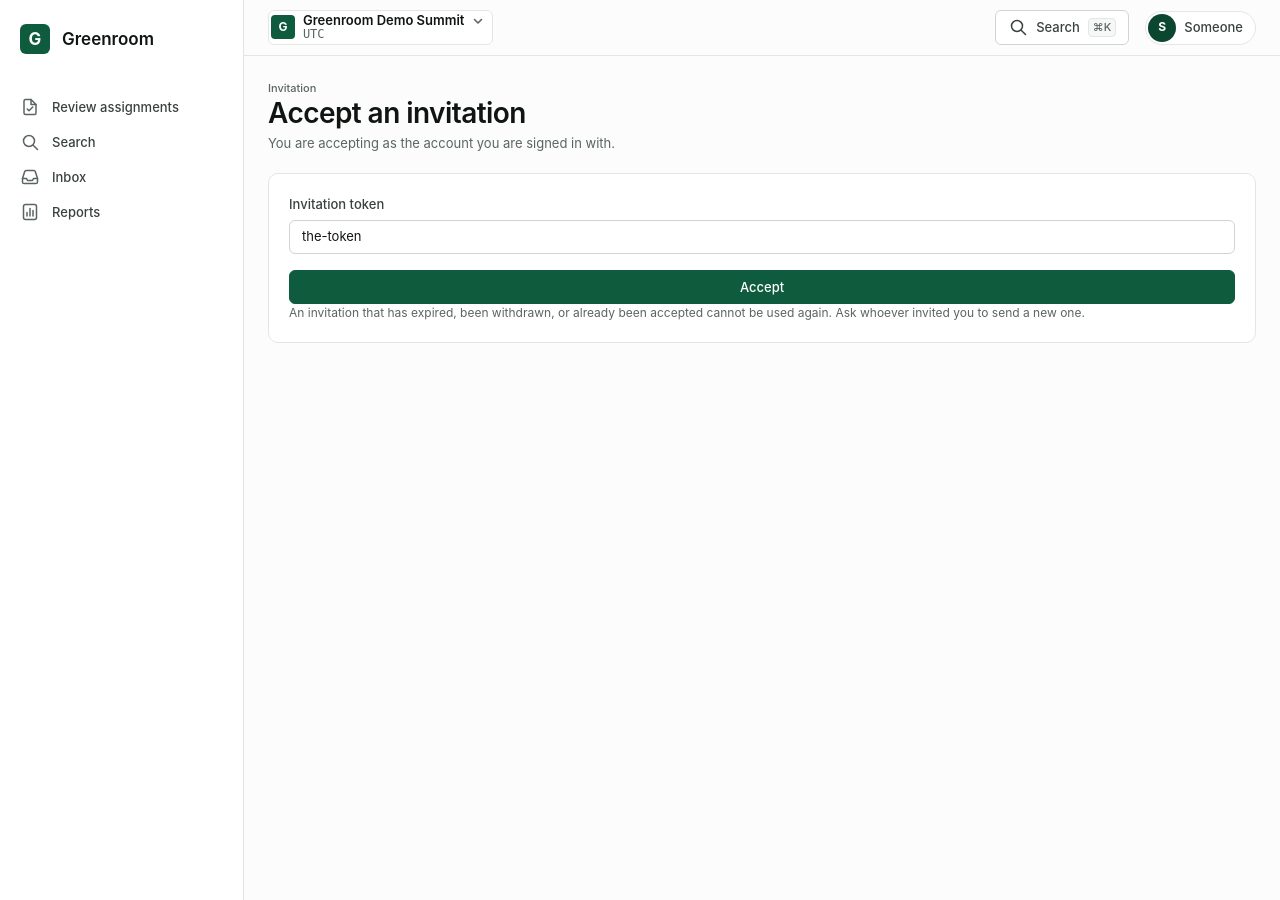
Test: accepting an invitation from its link › renders for a reviewer and reads the token out of the link
Expected: the heading "Accept an invitation" is shown, [268,96,526,130]
Expected: the field labelled "Invitation token" holds "the-token", [289,220,1235,254]
What coordinates should you click on to do the following:
click the button "Accept"
I would click on:
 (762, 287)
Its box is [289,270,1235,304].
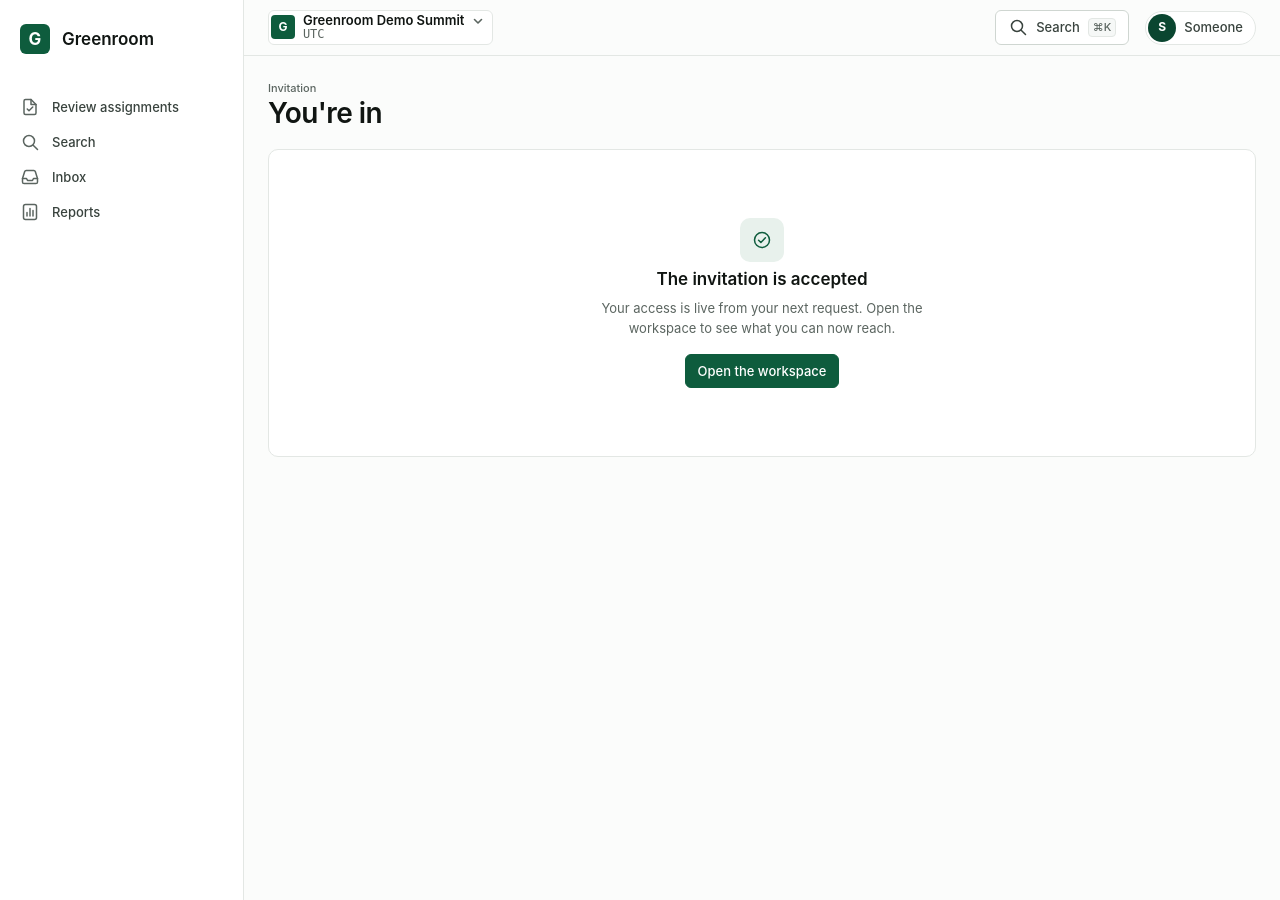
Expected: the heading "The invitation is accepted" is shown, [656,270,868,290]
